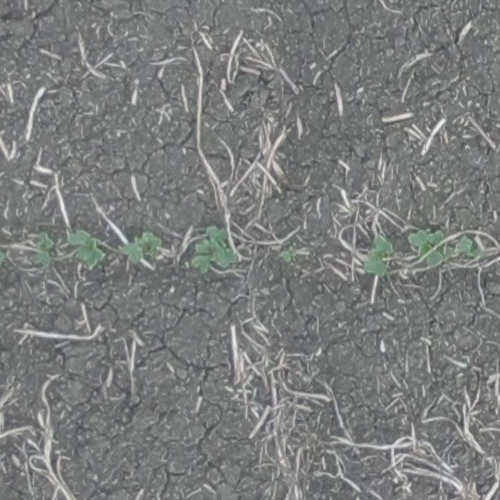clumped: (411, 230, 470, 268), (190, 226, 238, 271), (0, 234, 3, 275)
isolated: (121, 231, 161, 268), (366, 234, 388, 279), (34, 234, 53, 264)
